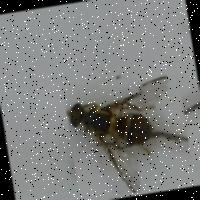Oriental-fruit-fly: (61, 69, 194, 200)
